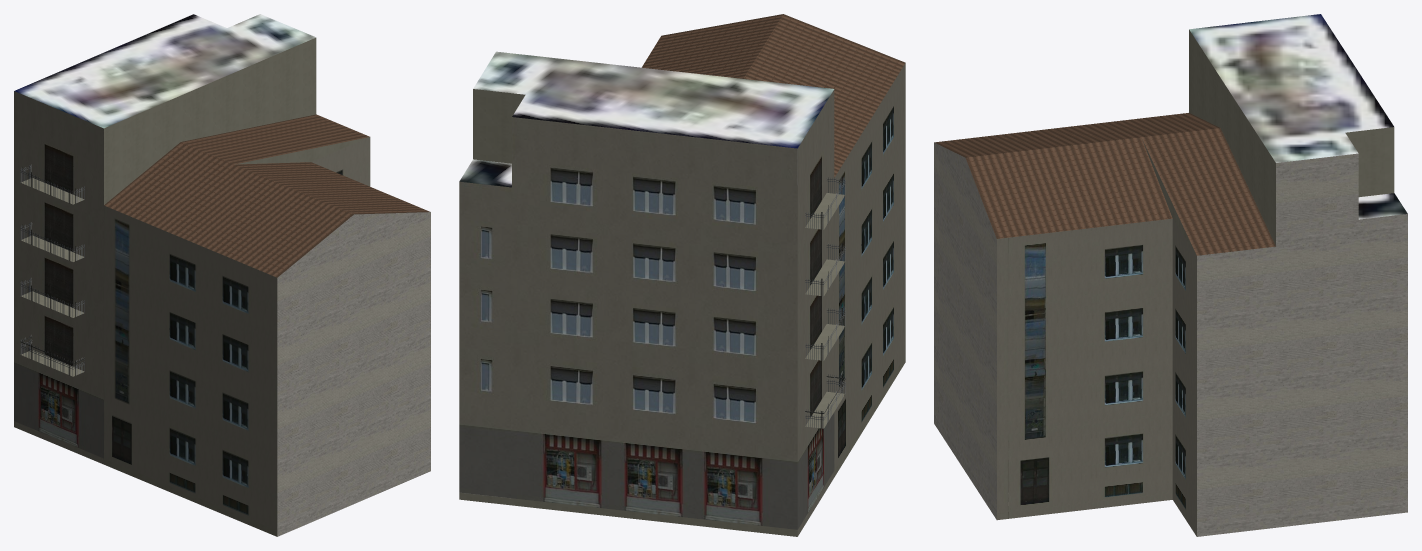
The model's file is Building007.dae.
3 renders of one model, left to right at view 1: azimuth 30°, elevation 25°; view 2: azimuth 150°, elevation 25°; view 3: azimuth 270°, elevation 25°, orthographic. The views are drawn at different scales.
Visible parts, largest first — view 1: SketchUp (×17); view 2: SketchUp (×17); view 3: SketchUp (×8).
Part boxes in pixels (x1,y1,x2,y2): SketchUp (×17): (14,14,430,536); SketchUp (×17): (459,14,905,536); SketchUp (×8): (934,14,1407,536).
Bounding box in the file's own units: 831 × 1023 × 869.
13 materials, 12 textured.
